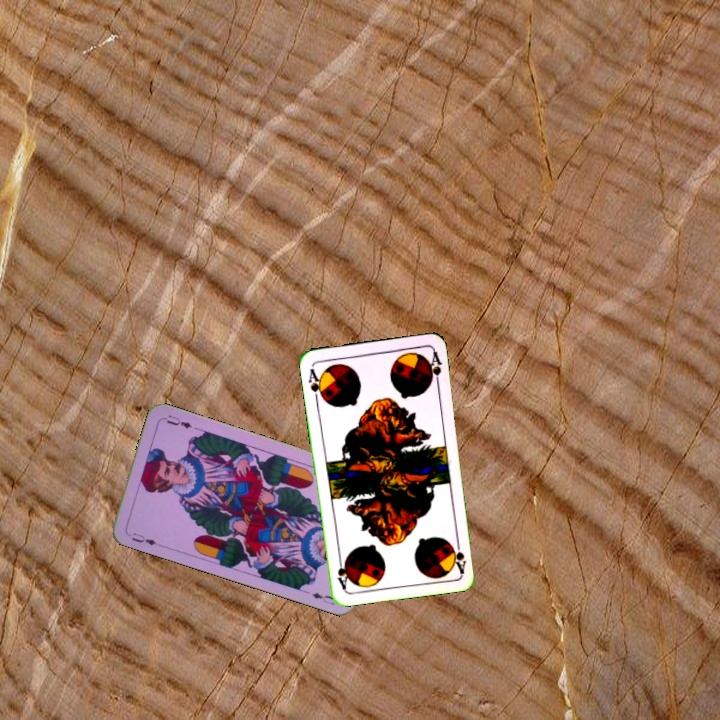EU: (123, 528, 159, 548)
SA: (304, 365, 327, 404), (448, 534, 469, 575)
